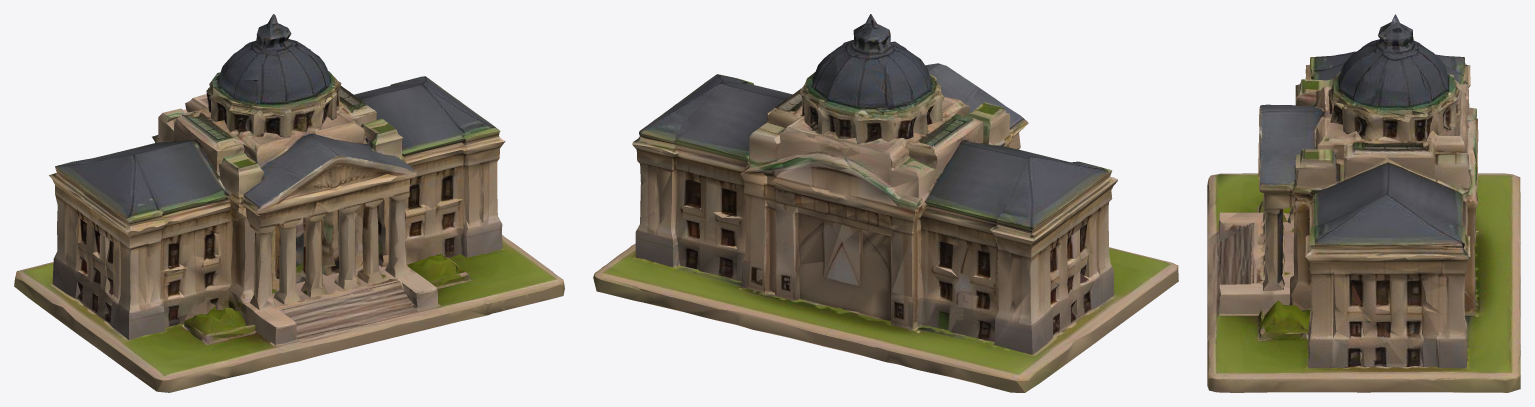
Rendered from national-taiwan-museum.glb.
The picture shows the model from 3 angles, left to right: view 1: azimuth 30°, elevation 25°; view 2: azimuth 150°, elevation 25°; view 3: azimuth 270°, elevation 25°; orthographic projection. The views are drawn at different scales.
Parts seen in each view (by area): view 1: logan-textured.obj; view 2: logan-textured.obj; view 3: logan-textured.obj.
Part boxes in pixels (x1,y1,x2,y2): logan-textured.obj: (14,14,564,392); logan-textured.obj: (593,14,1178,392); logan-textured.obj: (1207,14,1520,392).
Bounding box in the file's own units: 1 × 0.6218 × 0.641.
1 material, 1 textured.
